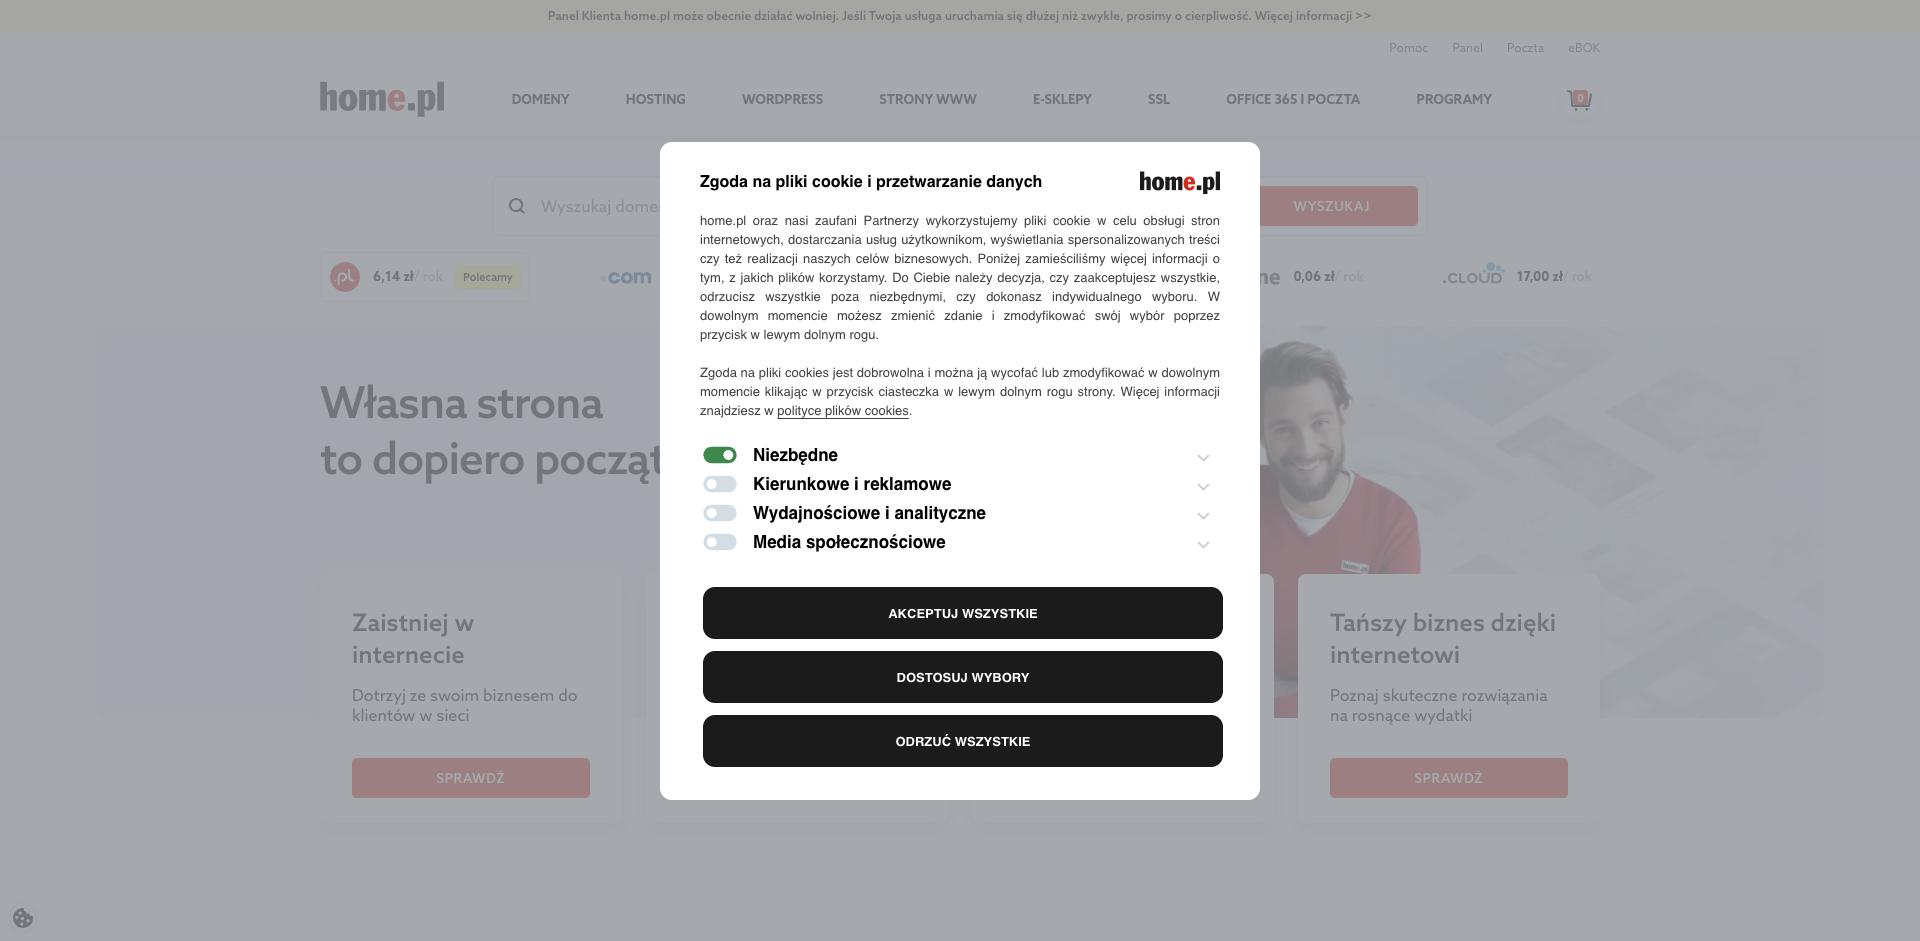button: (1199, 64, 1389, 136), (851, 64, 1005, 136), (714, 64, 851, 136), (598, 64, 714, 136), (1005, 64, 1120, 136), (484, 64, 598, 136), (1245, 186, 1418, 225), (1120, 64, 1199, 136)
input: (492, 176, 1428, 236)
link: (320, 9, 1600, 25), (320, 38, 444, 162), (320, 252, 530, 301), (1389, 64, 1521, 136), (516, 308, 748, 348), (516, 392, 748, 433), (351, 758, 590, 798), (1330, 758, 1569, 798), (678, 758, 916, 798), (1004, 758, 1242, 798), (516, 372, 748, 412), (1435, 252, 1600, 301), (1211, 252, 1371, 301), (593, 252, 748, 301), (1011, 252, 1149, 301), (812, 252, 948, 301), (516, 221, 747, 244), (516, 176, 747, 200), (516, 268, 720, 292), (516, 316, 703, 339), (516, 376, 735, 396), (516, 352, 702, 372), (516, 263, 692, 284), (516, 240, 671, 263), (516, 364, 694, 384), (516, 436, 661, 456), (516, 176, 654, 196), (516, 480, 654, 500), (516, 516, 653, 535), (516, 388, 653, 408), (516, 221, 650, 240), (516, 176, 650, 196), (516, 176, 649, 196), (516, 304, 647, 323), (516, 176, 645, 196), (516, 176, 642, 196), (516, 224, 640, 244), (516, 221, 639, 240), (516, 221, 628, 240), (516, 433, 633, 451), (516, 560, 623, 580), (516, 433, 621, 452), (516, 524, 621, 544), (516, 332, 618, 352), (516, 176, 615, 196), (516, 308, 604, 328), (516, 308, 602, 328), (516, 240, 605, 260), (516, 288, 601, 308), (1560, 80, 1600, 120), (516, 263, 579, 284), (1390, 40, 1429, 56), (1507, 40, 1544, 56), (1569, 40, 1600, 56), (1452, 40, 1483, 56)
